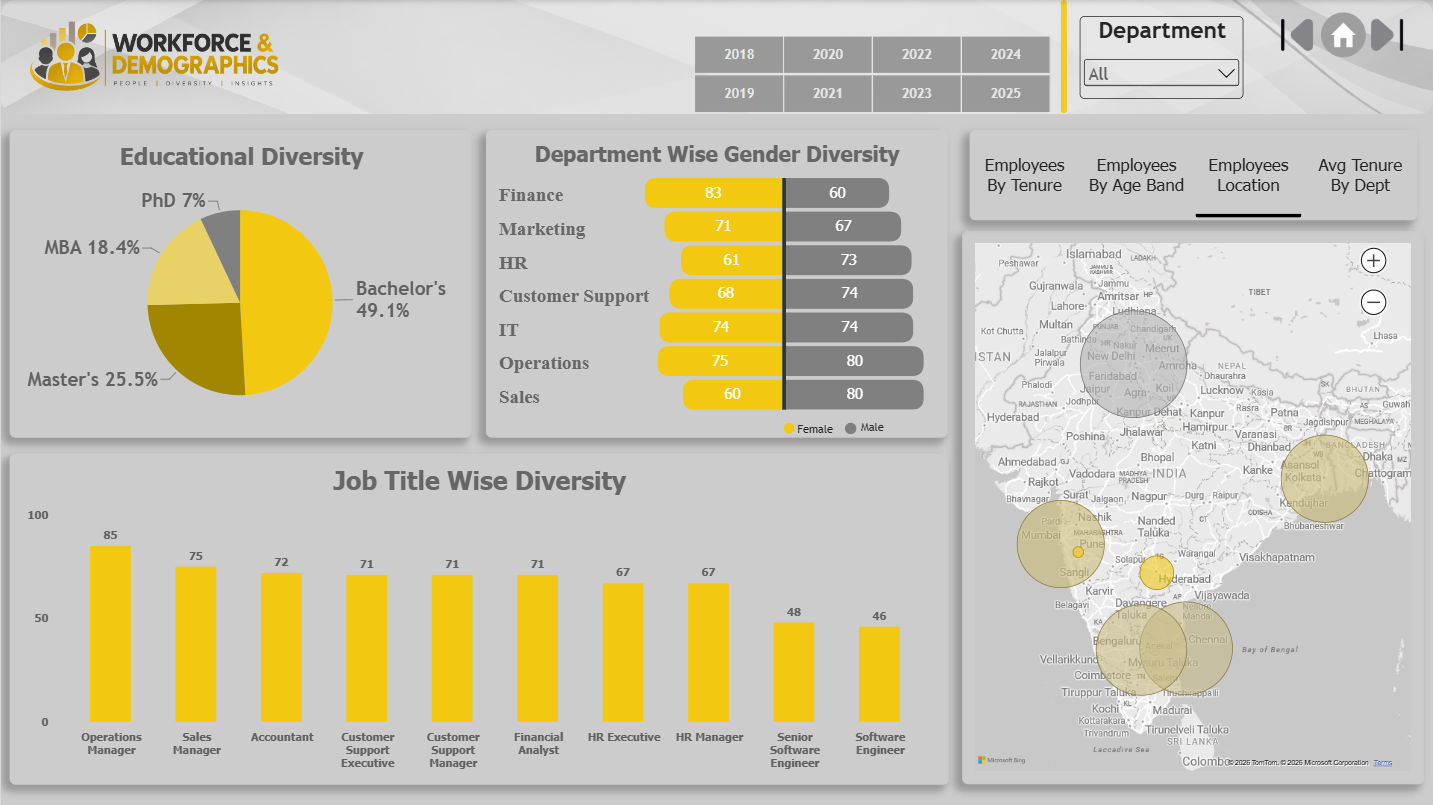

The dashboard page shown, as its layout file describes it:
{"tool":"powerbi","page":{"name":"WorkForce & Demographics","canvas":[1920,1080],"ordinal":2},"visuals":[{"type":"image","box":[0,0,1919.5,152.4],"z":0},{"type":"shape","box":[1148.9,0,550.4,151.6],"z":1000},{"type":"slicer","fields":{"Values":["hr_analytics employees.Hire_Date.Variation.Date Hierarchy.Year"]},"box":[909.5,46.1,514.2,105.5],"z":2000},{"type":"slicer","title":"Department","fields":{"Values":["hr_analytics departments.Department_Name"]},"box":[1445.5,22,219.4,110.5],"z":3000},{"type":"image","box":[1768.4,17.6,60,60],"z":4000},{"type":"image","box":[1827.4,16.7,60,60],"z":5000},{"type":"image","box":[1707,16,60,60],"z":6000},{"type":"pieChart","title":"Educational Diversity","fields":{"Series":["hr_analytics employees.Education_Level"],"Y":["Table.Total_Employees"]},"box":[11.7,174.2,618.1,412],"z":8000},{"type":"TornadoChart1452517688218","title":"Department Wise Gender Diversity","fields":{"Category":["hr_analytics departments.Department_Name"],"Values":["Table.Female Employees","Table.Male Employees"]},"box":[650,174,618,412],"z":10000},{"type":"shape","box":[1048.5,566.1,15.1,15.1],"z":12000},{"type":"textbox","box":[1066.9,564.5,50.2,21.8],"z":13000},{"type":"shape","box":[1131.3,565.6,15.9,15.9],"z":14000},{"type":"textbox","box":[1151.7,563.4,38.6,22.7],"z":15000},{"type":"bookmarkNavigator","box":[1298.1,174.2,599.5,121.2],"z":17000},{"type":"clusteredColumnChart","title":"Job Title Wise Diversity","fields":{"Category":["hr_analytics jobs.Job_Title"],"Y":["Table.Total_Employees"]},"box":[11.2,607.6,1258.2,443.1],"z":18000},{"type":"clusteredColumnChart","title":"Average Tenure By Department","fields":{"Category":["hr_analytics departments.Department_Name"],"Y":["Table.Avg_Employee_Tenure"]},"box":[1288.1,310.3,618.8,740],"z":20000},{"type":"image","box":[0,0,430.5,152.4],"z":23000}]}

Visuals, with their boxes in screenshot pixels (x1, y1, x2, y2), scaled from the page's 1920x1080 canvas onto the 1433x805 screenshot:
image: 0,0,1432,114
shape: 857,0,1268,113
slicer - hr_analytics employees.Hire_Date.Variation.Date Hierarchy.Year: 679,34,1063,113
"Department" slicer: 1079,16,1243,99
image: 1320,13,1365,58
image: 1364,12,1409,57
image: 1274,12,1319,57
"Educational Diversity" pieChart: 9,130,470,437
"Department Wise Gender Diversity" TornadoChart1452517688218: 485,130,946,437
shape: 783,422,794,433
textbox: 796,421,834,437
shape: 844,422,856,433
textbox: 860,420,888,437
bookmarkNavigator: 969,130,1416,220
"Job Title Wise Diversity" clusteredColumnChart: 8,453,947,783
"Average Tenure By Department" clusteredColumnChart: 961,231,1423,783
image: 0,0,321,114
